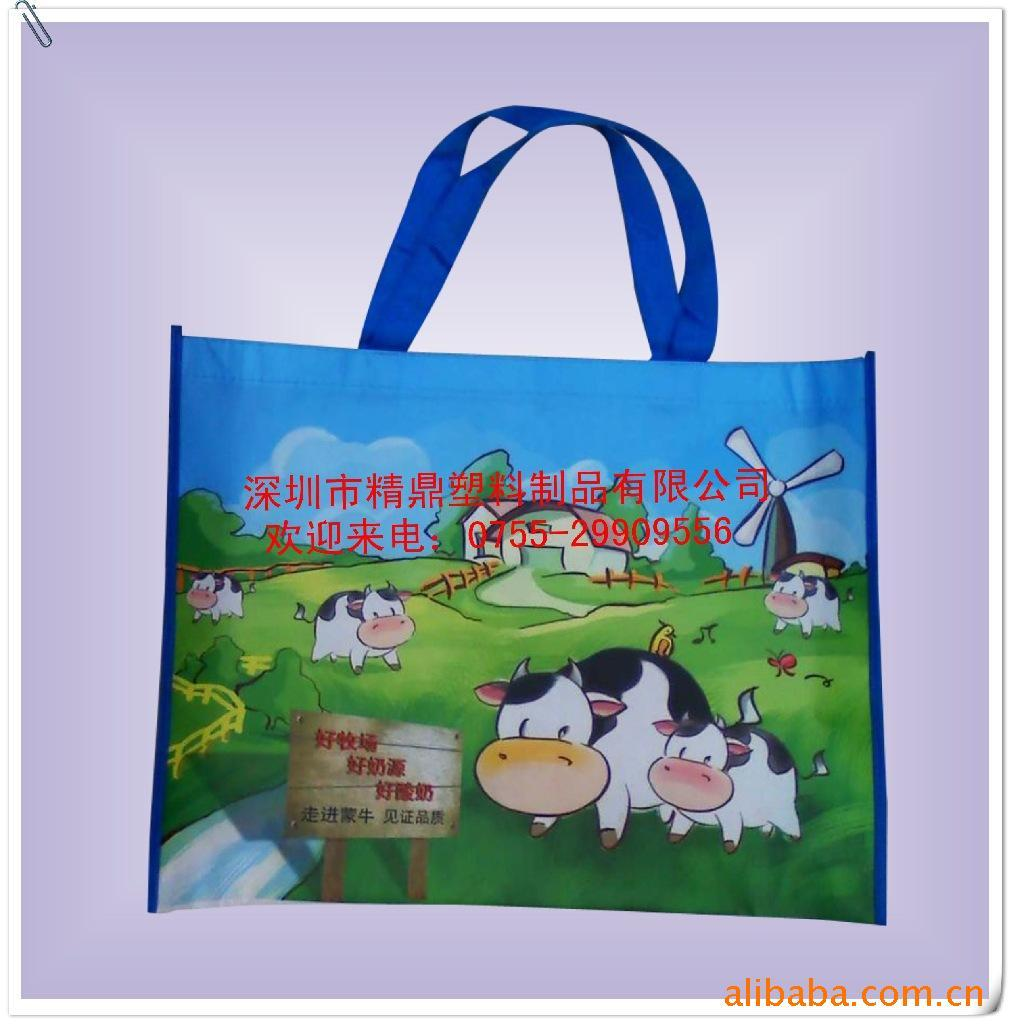flexible: (149, 96, 894, 930)
